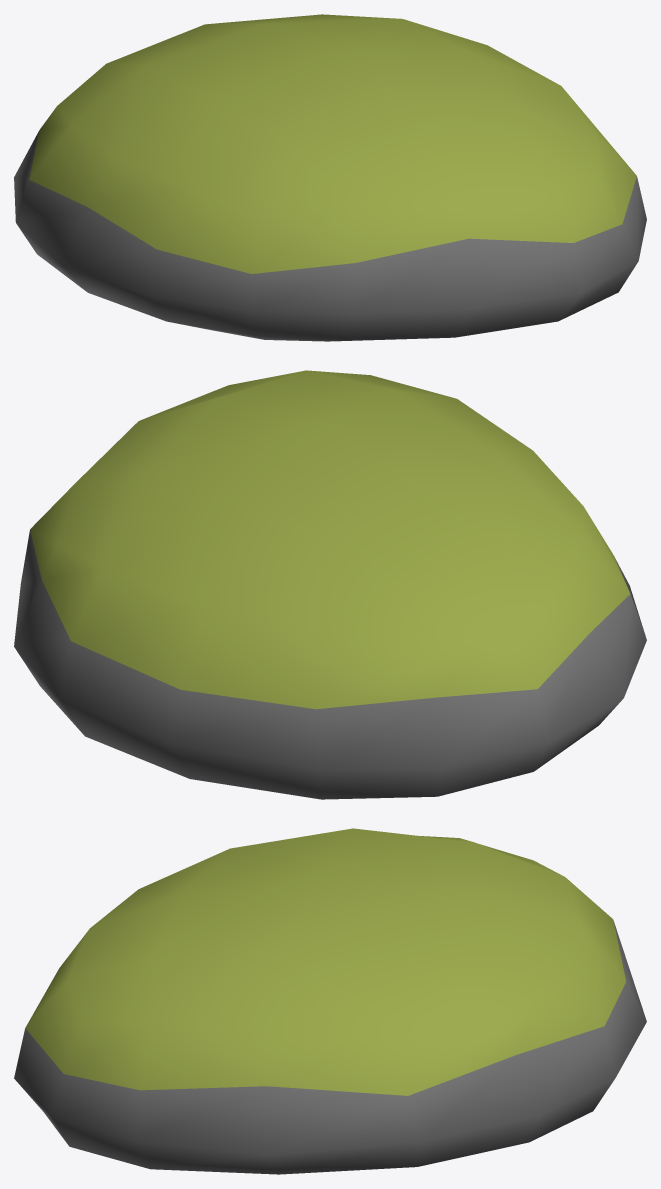
File: Pebble_2a_Moss.gltf
3 views of the same model, one above another, from view 1: azimuth 30°, elevation 25°; view 2: azimuth 150°, elevation 25°; view 3: azimuth 270°, elevation 25° (orthographic). The views are drawn at different scales.
Visible parts, largest first — view 1: Pebble_2a_Moss; view 2: Pebble_2a_Moss; view 3: Pebble_2a_Moss.
Boxes of the visible parts, <box> form: Pebble_2a_Moss: <box>14,14,646,341</box>; Pebble_2a_Moss: <box>14,370,646,799</box>; Pebble_2a_Moss: <box>14,828,646,1174</box>.
Bounding box in the file's own units: 38.8 × 16.23 × 39.98.
1 material, 1 textured.
